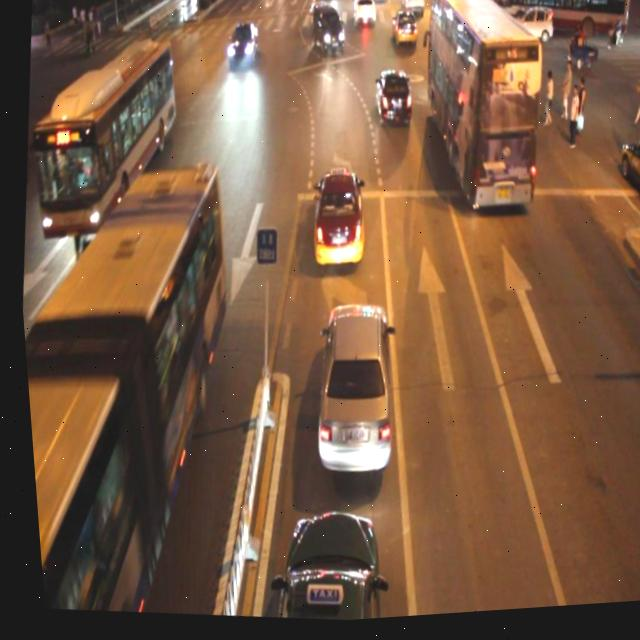car: (300, 302, 400, 480), (255, 503, 381, 628), (302, 166, 369, 272), (45, 95, 91, 162), (368, 71, 414, 134), (306, 6, 349, 59), (223, 23, 261, 71), (388, 13, 419, 53), (348, 0, 379, 33)
van: (9, 150, 250, 625), (17, 30, 184, 248), (406, 0, 552, 220)
